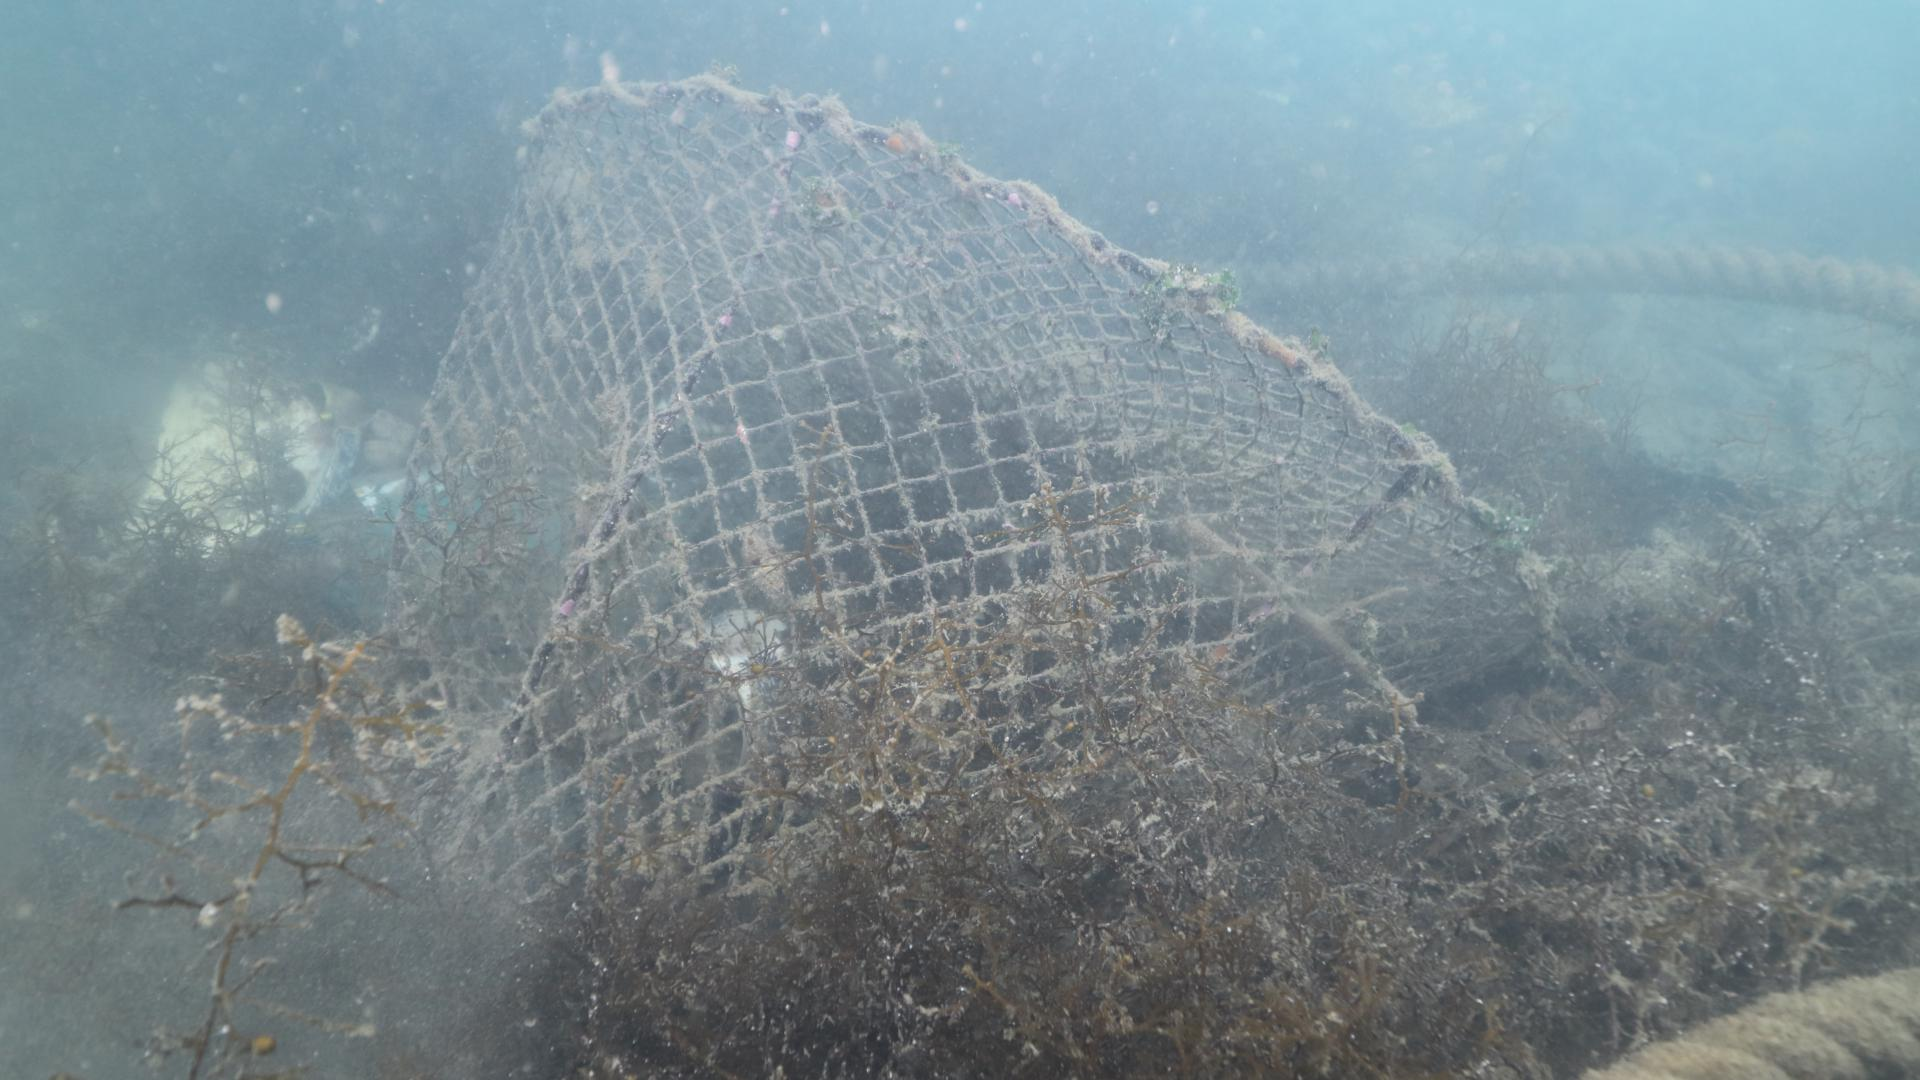circular fish trap: (375, 75, 1563, 975)
rope: (1209, 243, 1920, 327), (1571, 967, 1920, 1080)
